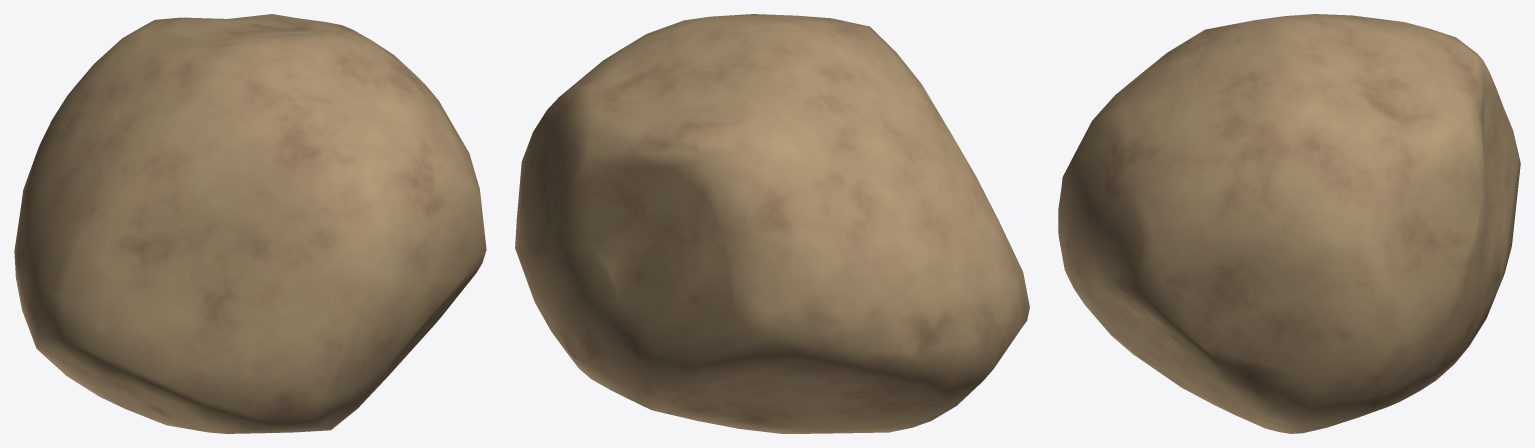
The model's file is Rock130x120x110.gltf.
3 views of the same model, side by side, from view 1: azimuth 30°, elevation 25°; view 2: azimuth 150°, elevation 25°; view 3: azimuth 270°, elevation 25° (orthographic). The views are drawn at different scales.
Parts seen in each view (by area): view 1: Stein 130x120x110LowPoly; view 2: Stein 130x120x110LowPoly; view 3: Stein 130x120x110LowPoly.
Boxes of the visible parts, left/top/right/bottom form: Stein 130x120x110LowPoly: left=14, top=14, right=486, bottom=433; Stein 130x120x110LowPoly: left=515, top=14, right=1029, bottom=433; Stein 130x120x110LowPoly: left=1058, top=14, right=1520, bottom=433.
Bounding box in the file's own units: 1.34 × 1.11 × 1.25.
Materials: 1 (1 with a texture image).
